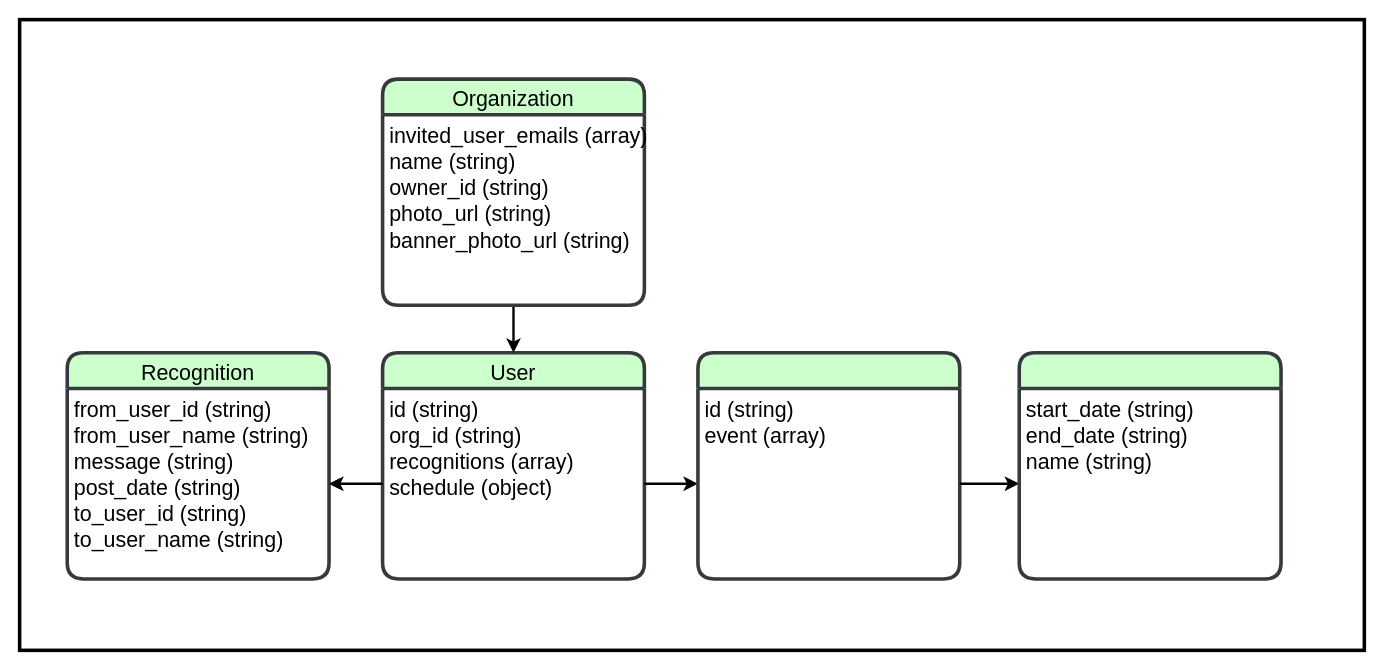
This 1384x670 diagram has some shape labels left out. The box of each missing label's shape, as (x1, y1, x2, y2) in pixels:
Event: (1017, 350, 1282, 580)
Schedule: (696, 350, 961, 580)
